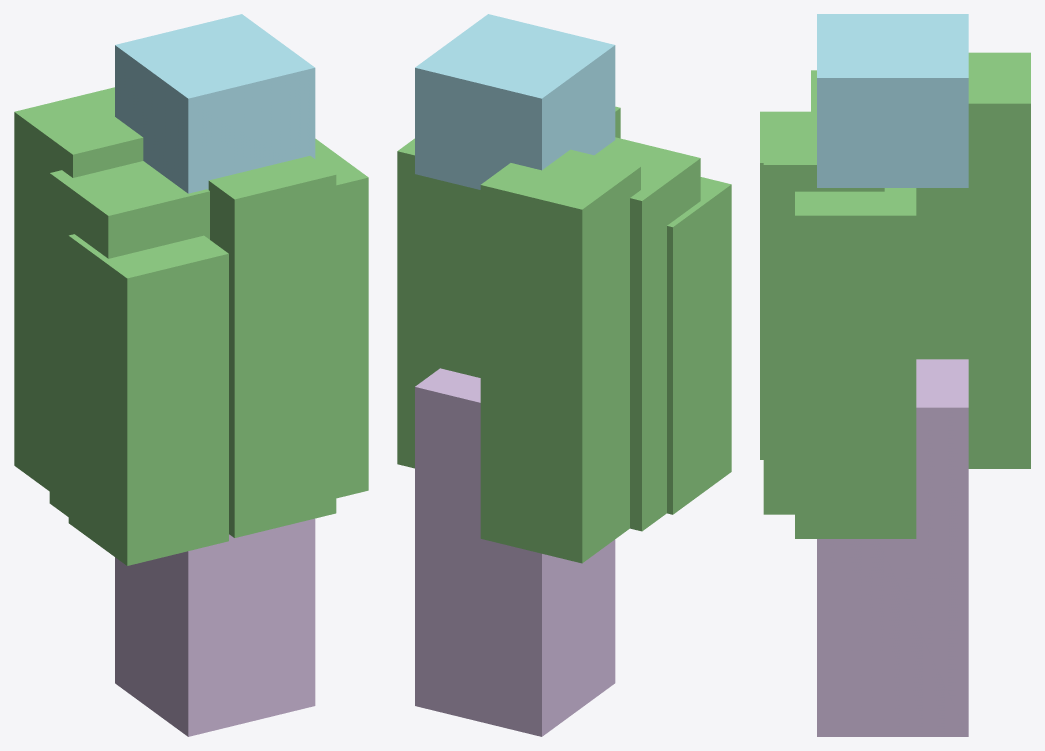
The model's file is Item_Herb_AMF_Starkibble_Bundle4.glb.
3 renders of one model, left to right at view 1: azimuth 30°, elevation 25°; view 2: azimuth 150°, elevation 25°; view 3: azimuth 270°, elevation 25°, orthographic. The views are drawn at different scales.
Parts seen in each view (by area): view 1: Item_Herb_AMF_Starkibble_Bundle4; view 2: Item_Herb_AMF_Starkibble_Bundle4; view 3: Item_Herb_AMF_Starkibble_Bundle4.
Part boxes in pixels (box(x1,y1,x2,y2)): Item_Herb_AMF_Starkibble_Bundle4: box(14, 14, 368, 736); Item_Herb_AMF_Starkibble_Bundle4: box(397, 14, 731, 736); Item_Herb_AMF_Starkibble_Bundle4: box(760, 14, 1030, 736).
Size of the model in its own units: 0.1017 by 0.24 by 0.0894.
